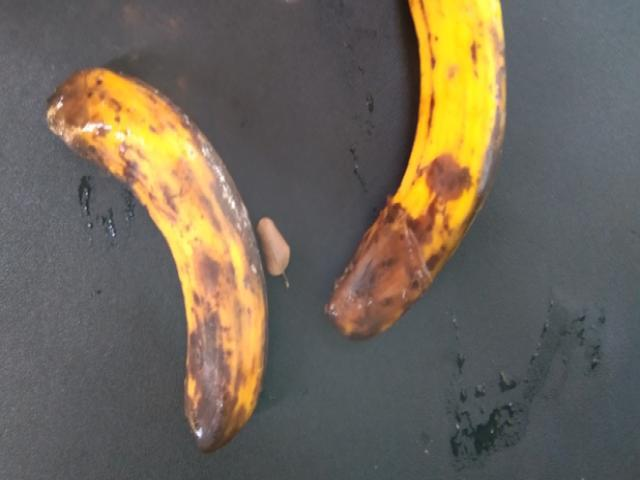rotten: (41, 66, 260, 438), (325, 0, 524, 350)
